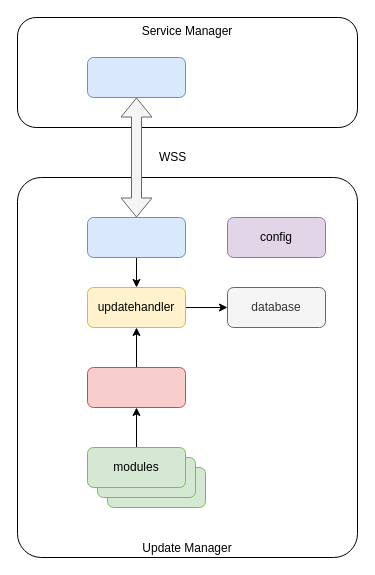
The diagram is 375 pixels wide and 575 high, and some of its shapes have lost their labels. The centre of each missing label's shape, as x and y in pixels:
modulemanager: the point at 136,387
umclient: the point at 136,77
umserver: the point at 136,237
